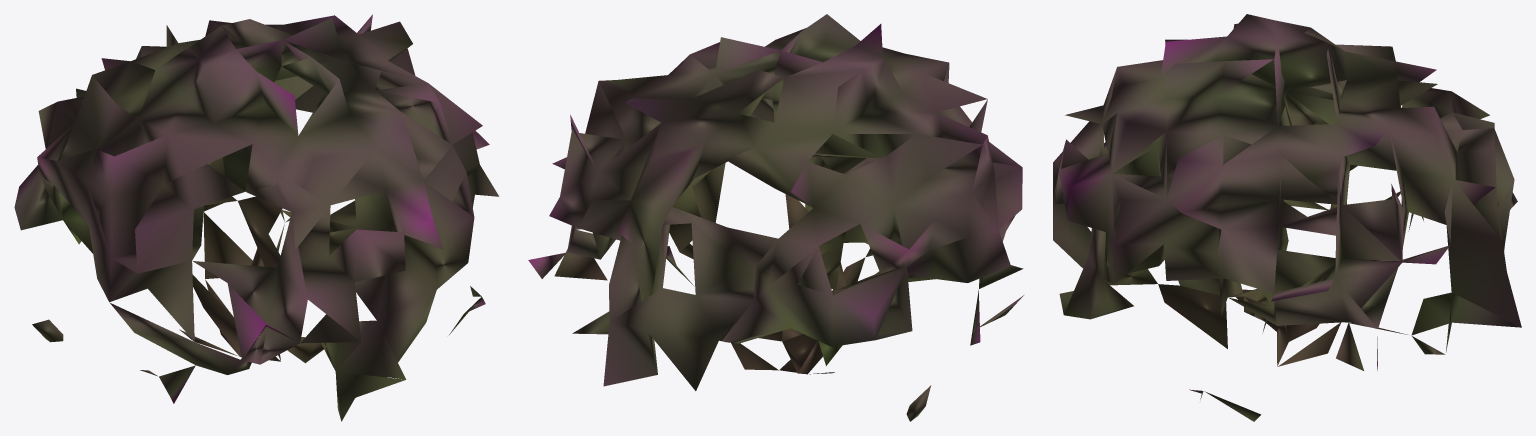
Rendered from azalea.2.glb.
3 views of the same model, side by side, from view 1: azimuth 30°, elevation 25°; view 2: azimuth 150°, elevation 25°; view 3: azimuth 270°, elevation 25° (orthographic). The views are drawn at different scales.
Parts seen in each view (by area): view 1: lod; view 2: lod; view 3: lod.
Boxes of the visible parts, bbox=[...] form: lod: bbox=[14, 14, 499, 421]; lod: bbox=[528, 14, 1023, 421]; lod: bbox=[1053, 14, 1521, 421].
Size of the model in its own units: 0.8231 by 0.6289 by 0.8575.
